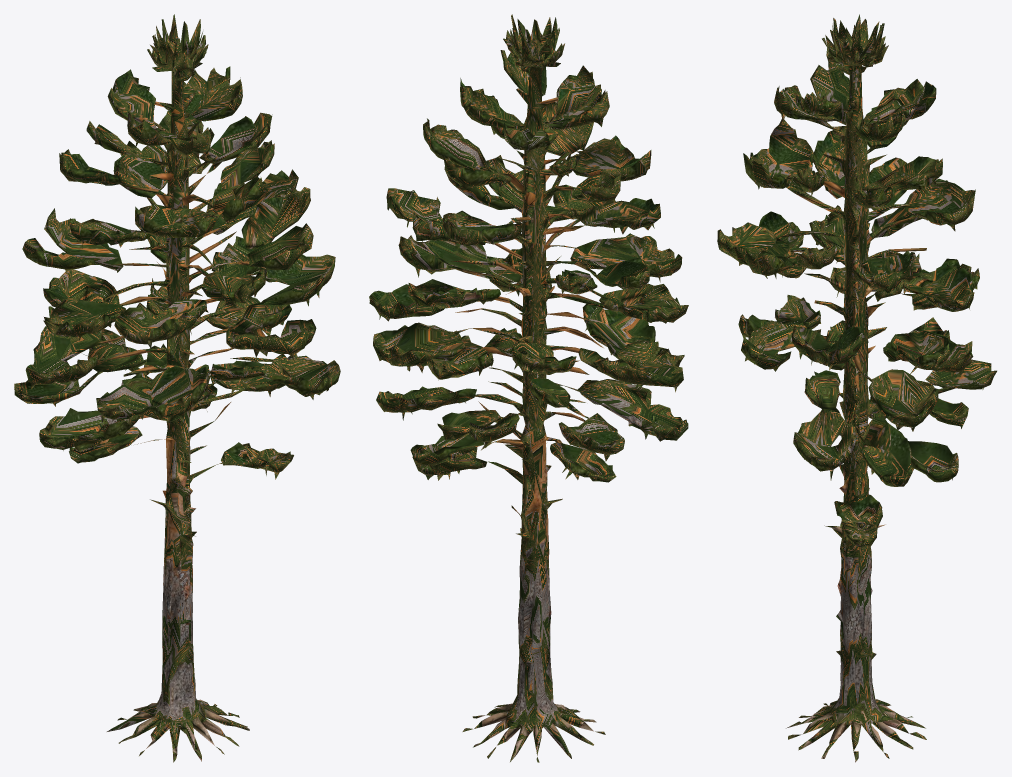
The model's file is pine.glb.
3 views of the same model, side by side, from view 1: azimuth 30°, elevation 25°; view 2: azimuth 150°, elevation 25°; view 3: azimuth 270°, elevation 25° (orthographic).
Size of the model in its own units: 3.06 by 6.99 by 2.48.
Materials: 1 (1 with a texture image).
